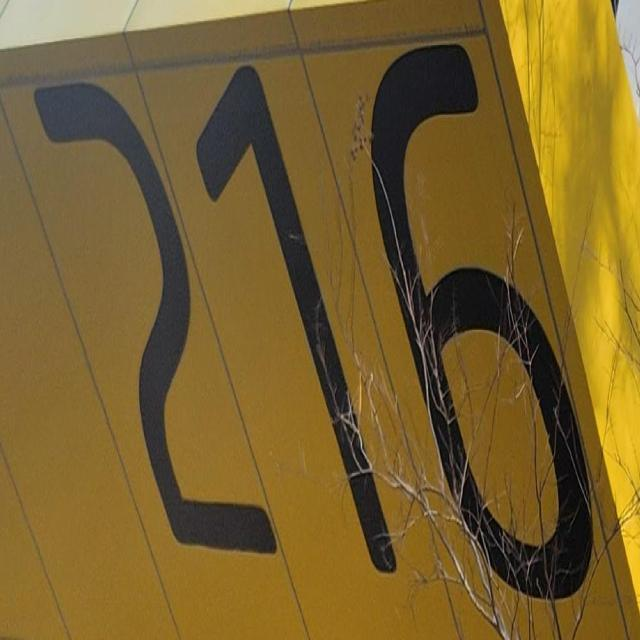character: (368, 41, 597, 605), (31, 76, 280, 560), (194, 60, 400, 582)
